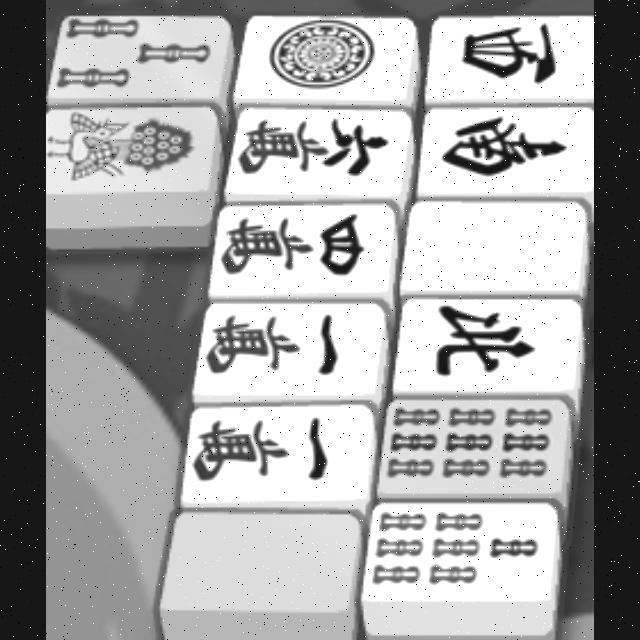1m: (191, 408, 367, 502), (202, 303, 372, 393)
1p: (235, 15, 405, 101)
1s: (46, 111, 200, 217)
3s: (51, 18, 217, 98)
4m: (218, 206, 390, 302)
6m: (233, 104, 403, 202)
7s: (371, 505, 559, 617)
9s: (382, 400, 574, 488)
haku: (170, 513, 358, 629)
hatsu: (406, 205, 578, 289)
nan: (419, 107, 587, 189)
pe: (398, 301, 580, 394)
sha: (429, 17, 585, 93)
